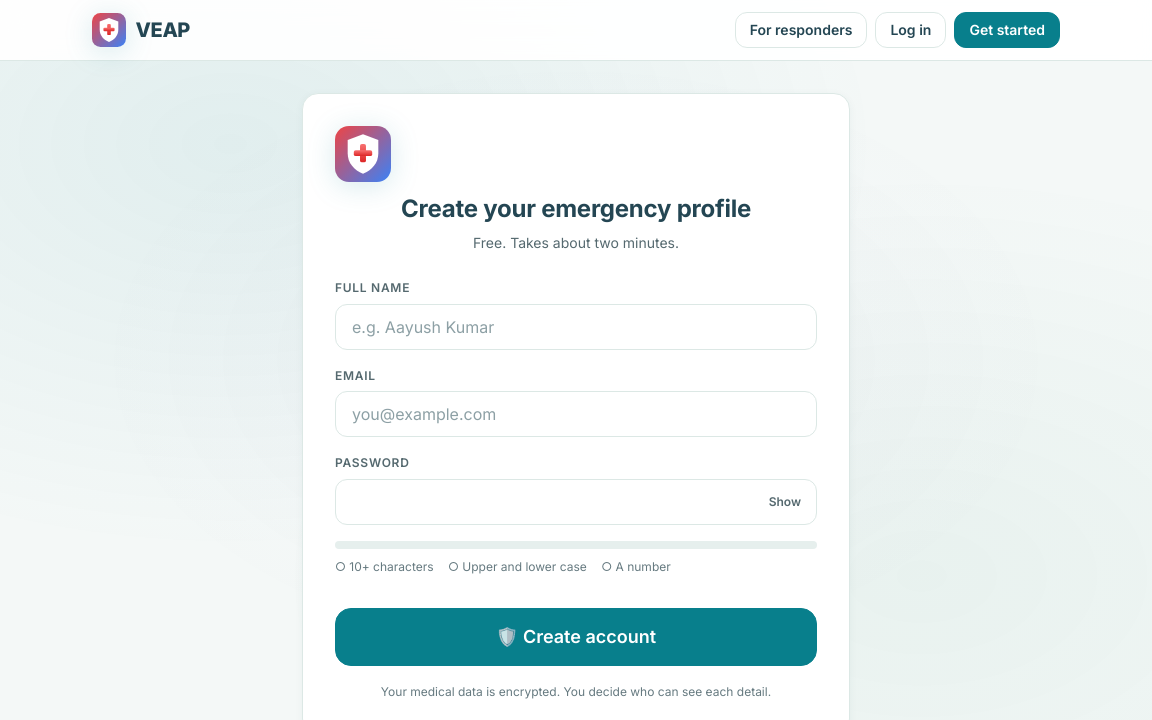
public pages › registration shows a live password checklist
Type "abc" into the password field labelled "Password". click: [576, 502]
box: [335, 479, 817, 525]
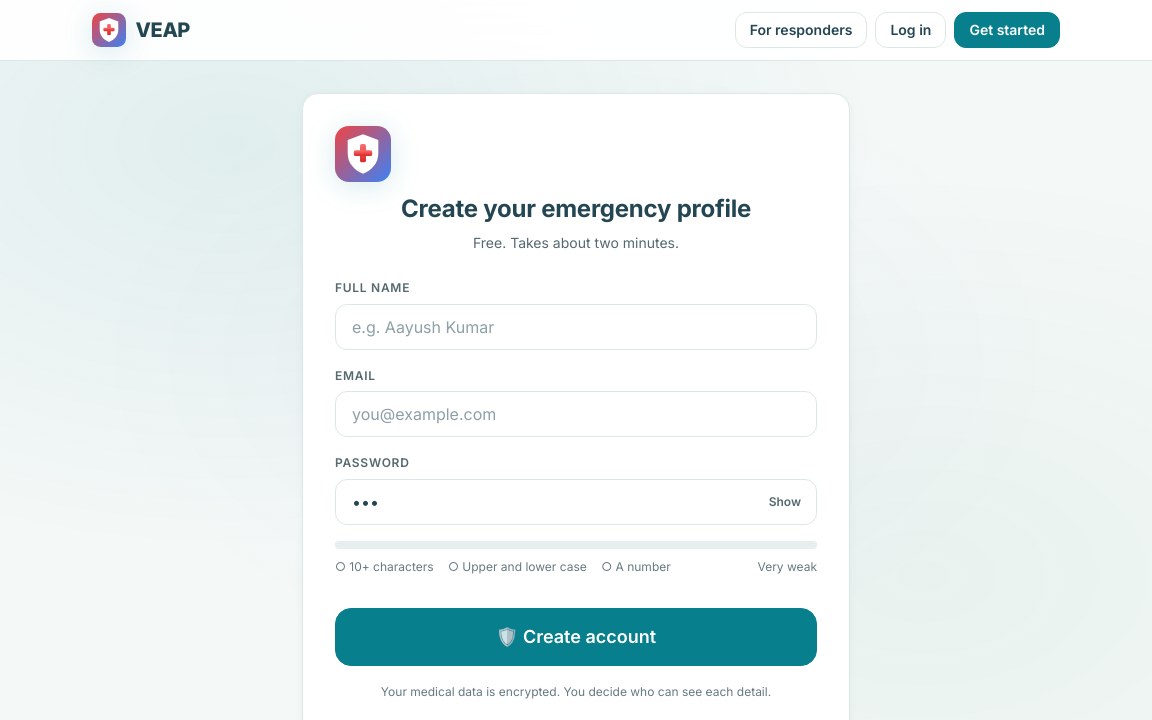
Expected: the text "○ 10+ characters" is shown, [335, 557, 434, 576]
Type "Str0ngPassw0rd!" into the password field labelled "Password". click: [576, 502]
box: [335, 479, 817, 525]
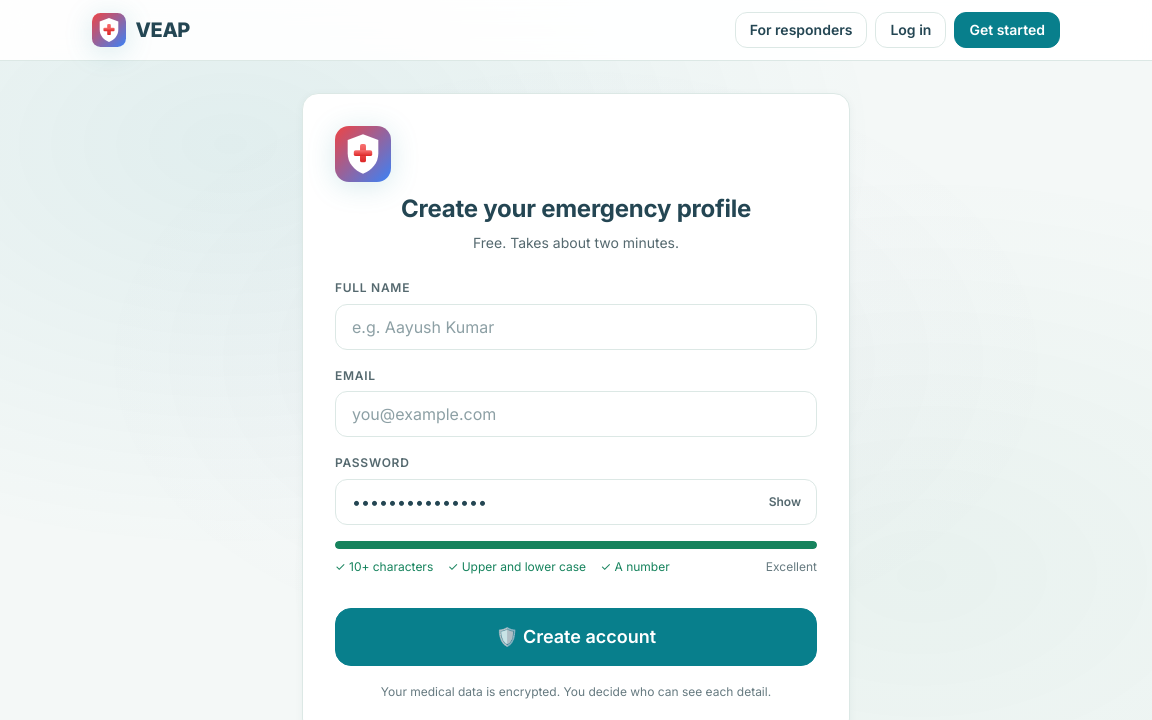
Result: the text "✓ 10+ characters" is shown at [335, 557, 433, 576]
Result: the text "Excellent" is shown at [766, 557, 817, 576]
